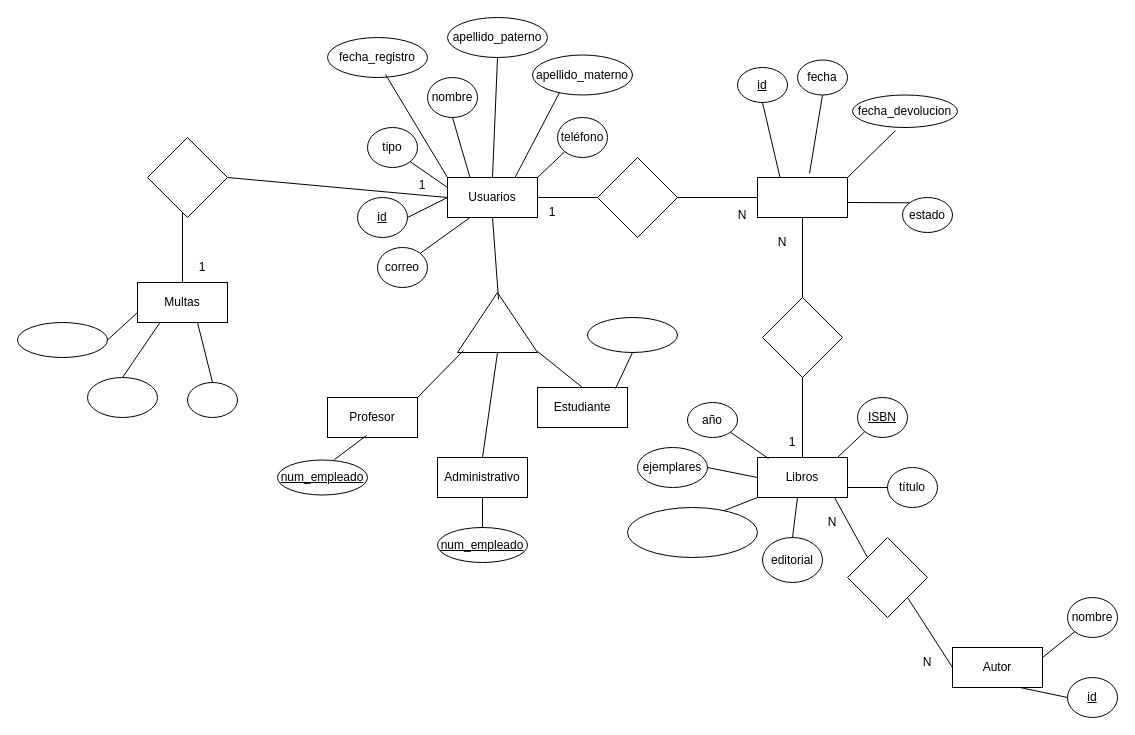
Some shapes in this 1135 by 735 pixel diagram are drawn without their labels. Here are the shapes that lost their labels. From the top down, the centre of each, then its label:
At pixel 187 177: "Tiene".
At pixel 637 197: "Pide".
At pixel 802 197: "Préstamos".
At pixel 62 340: "id_prestamo".
At pixel 497 322: "Es".
At pixel 632 334: "Matrícula".
At pixel 802 337: "Contiene".
At pixel 122 397: "fecha_pago".
At pixel 212 400: "monto".
At pixel 692 532: "ejemplares_prestados".
At pixel 887 577: "Escribe".
